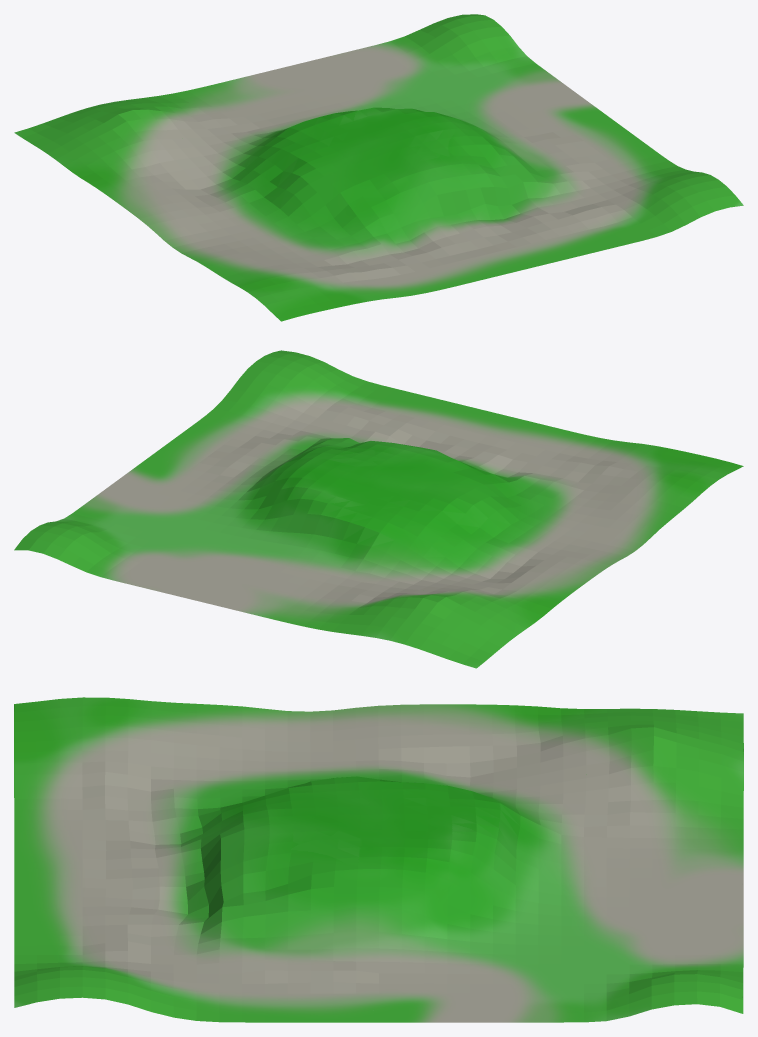
File: SimplisticTerrain.fbx
The picture shows the model from 3 angles, top to bottom: view 1: azimuth 30°, elevation 25°; view 2: azimuth 150°, elevation 25°; view 3: azimuth 270°, elevation 25°; orthographic projection. The views are drawn at different scales.
Visible parts, largest first — view 1: Plane; view 2: Plane; view 3: Plane.
Boxes of the visible parts, x1,y1,x2,y2 form: Plane: (14, 14, 743, 321); Plane: (14, 350, 743, 668); Plane: (14, 697, 743, 1022).
Bounding box in the file's own units: 4008 × 361 × 4004.
